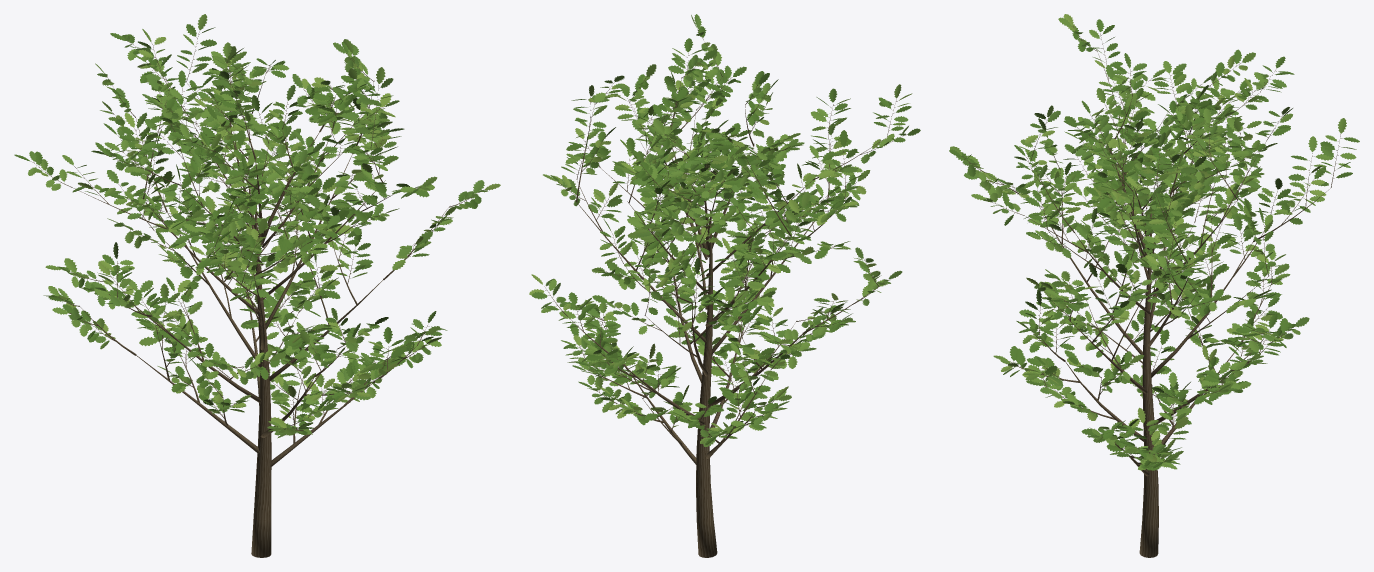
File: Sessile_Oak_Young_01_Unpruned_LOD0.fbx
3 renders of one model, left to right at view 1: azimuth 30°, elevation 25°; view 2: azimuth 150°, elevation 25°; view 3: azimuth 270°, elevation 25°, orthographic. The views are drawn at different scales.
Parts seen in each view (by area): view 1: Sessile_Oak_Young_01_Unpruned_LOD0; view 2: Sessile_Oak_Young_01_Unpruned_LOD0; view 3: Sessile_Oak_Young_01_Unpruned_LOD0.
Part boxes in pixels (box(x1,y1,x2,y2)): Sessile_Oak_Young_01_Unpruned_LOD0: box(14, 14, 500, 557); Sessile_Oak_Young_01_Unpruned_LOD0: box(529, 14, 920, 557); Sessile_Oak_Young_01_Unpruned_LOD0: box(949, 14, 1359, 557).
Size of the model in its own units: 632 by 799 by 620.
5 materials, 1 textured.
